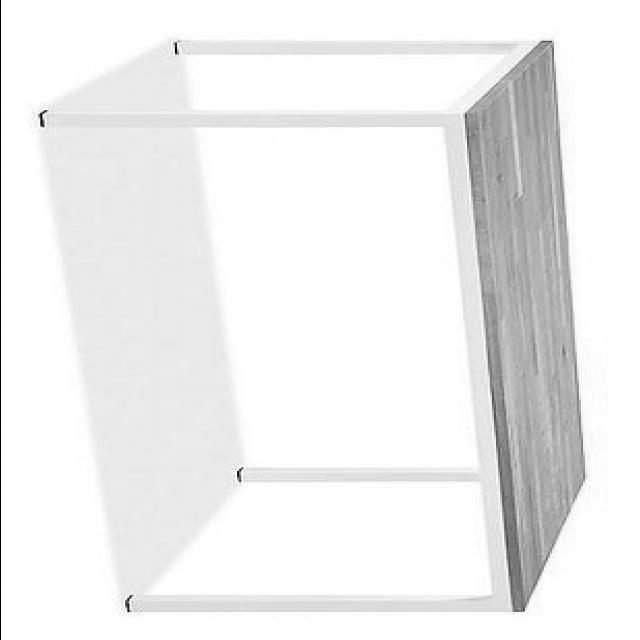table: (39, 31, 588, 614)
